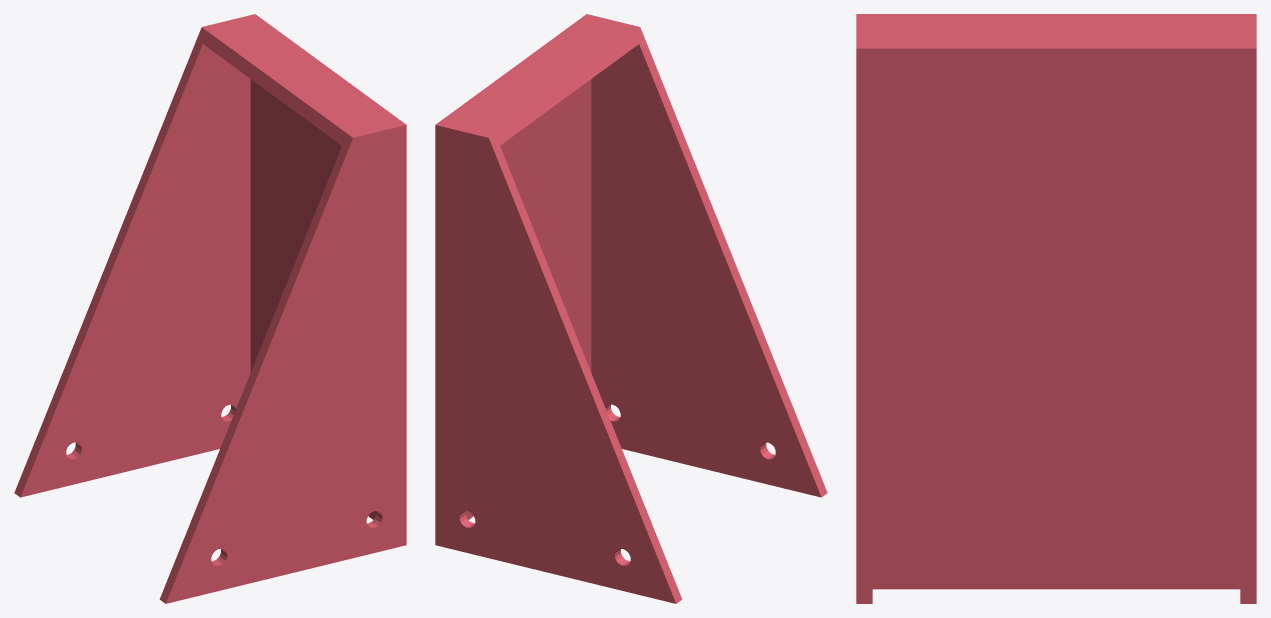
The model's file is hand_finger_palm.obj.
3 views of the same model, side by side, from view 1: azimuth 30°, elevation 25°; view 2: azimuth 150°, elevation 25°; view 3: azimuth 270°, elevation 25° (orthographic). The views are drawn at different scales.
Visible parts, largest first — view 1: メッシュ フィーチャ1; view 2: メッシュ フィーチャ1; view 3: メッシュ フィーチャ1.
Boxes of the visible parts, x1,y1,x2,y2 form: メッシュ フィーチャ1: [14, 14, 406, 603]; メッシュ フィーチャ1: [435, 14, 827, 603]; メッシュ フィーチャ1: [856, 14, 1256, 603].
Size of the model in its own units: 45 by 75 by 49.
